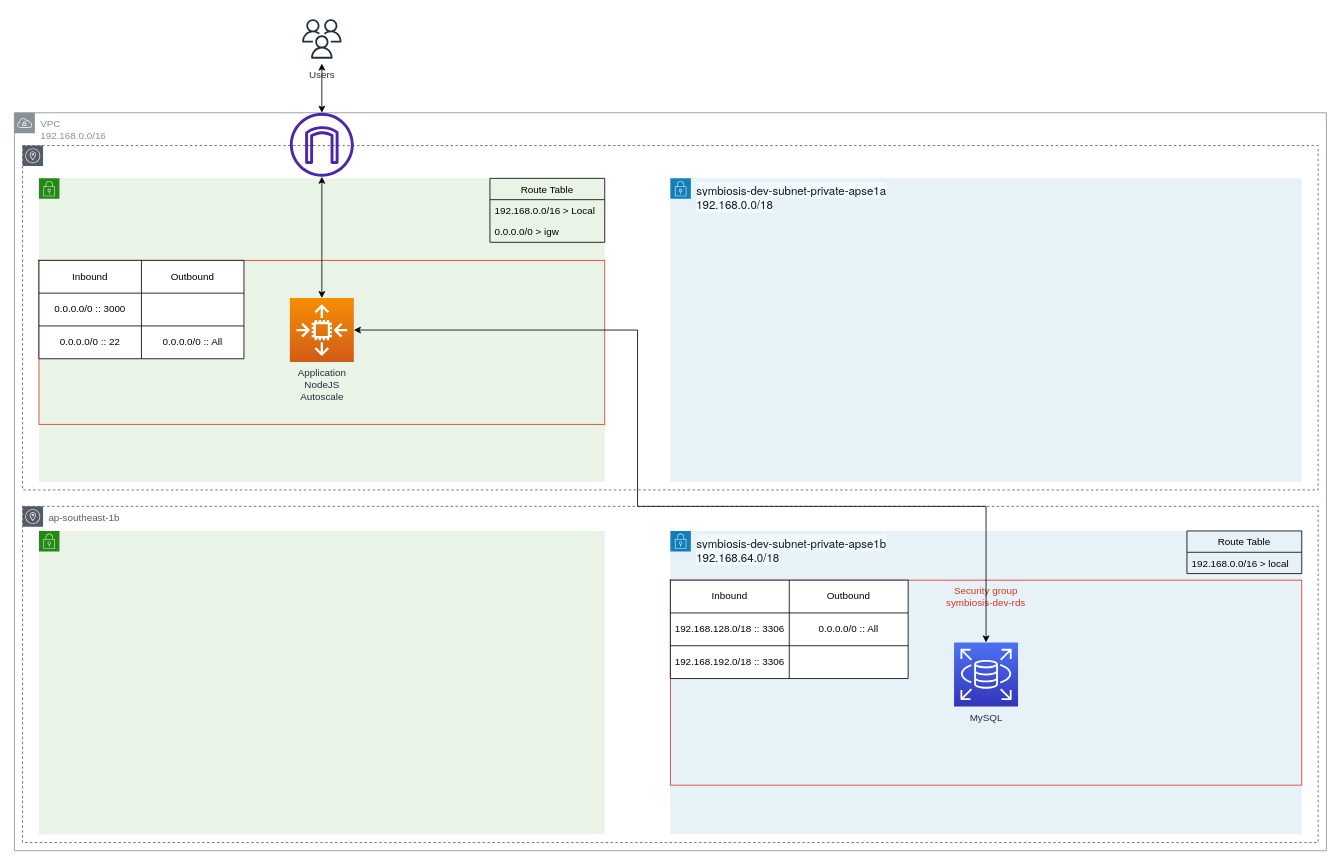
This 1341x865 diagram has some shape labels left out. Each missing label, with the box of its shape:
ap-southeast-1a: (22, 145, 1318, 490)
Internet Gateway: (289, 112, 353, 176)
Security group symbiosis-dev-ec2: (38, 260, 605, 424)
symbiosis-dev-subnet-public-apse1a 192.168.128.0/18: (38, 178, 605, 482)
symbiosis-dev-subnet-public-apse1b 192.168.192.0/18: (38, 530, 605, 834)
